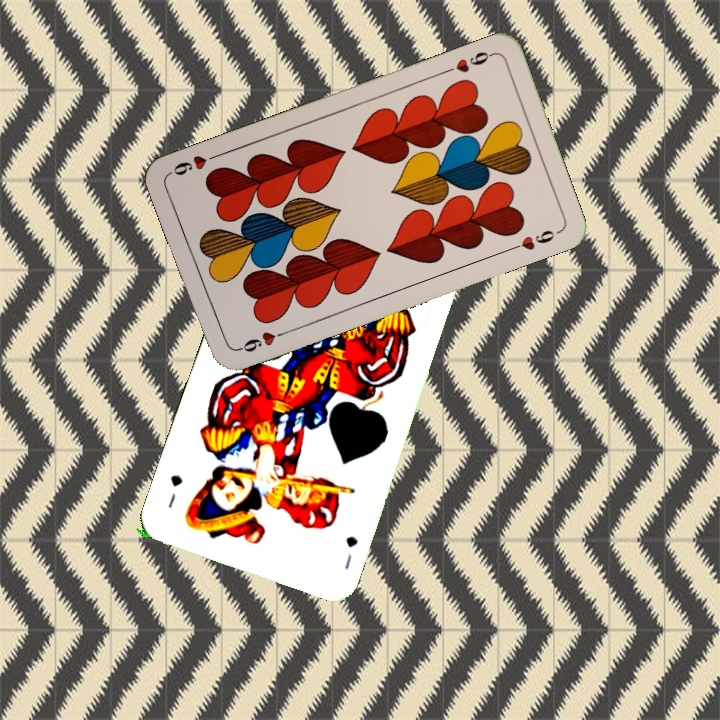GU: (340, 532, 361, 572)
H9: (440, 47, 497, 76), (233, 327, 290, 355)
